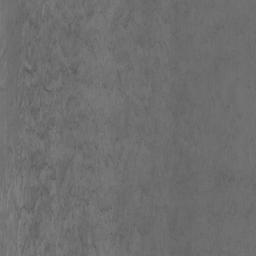Silk spot: (0, 0, 164, 256), (165, 2, 189, 40), (135, 23, 165, 50), (170, 107, 200, 134), (169, 219, 184, 241), (135, 185, 149, 200), (216, 175, 235, 186)
